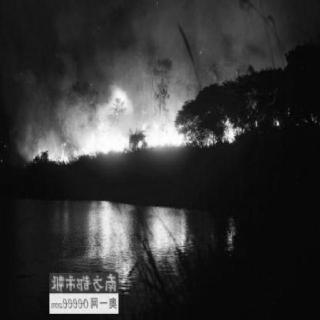Fire: (16, 100, 276, 171)
Smoke: (8, 5, 284, 91)
